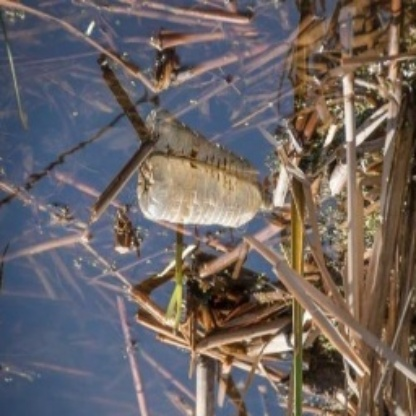bottle: (136, 152, 278, 231)
